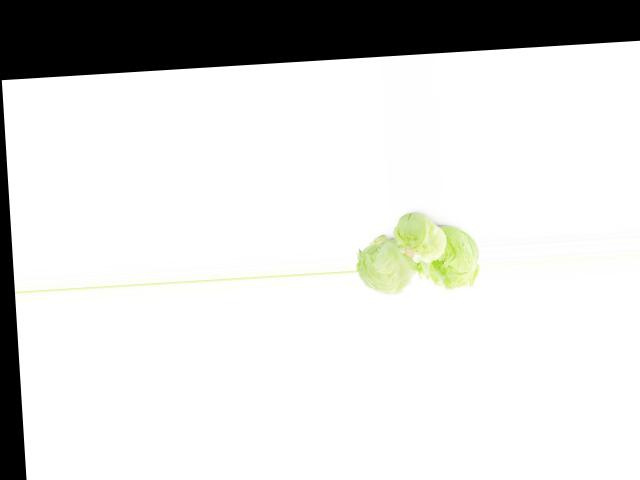lettuce: (422, 227, 477, 287)
